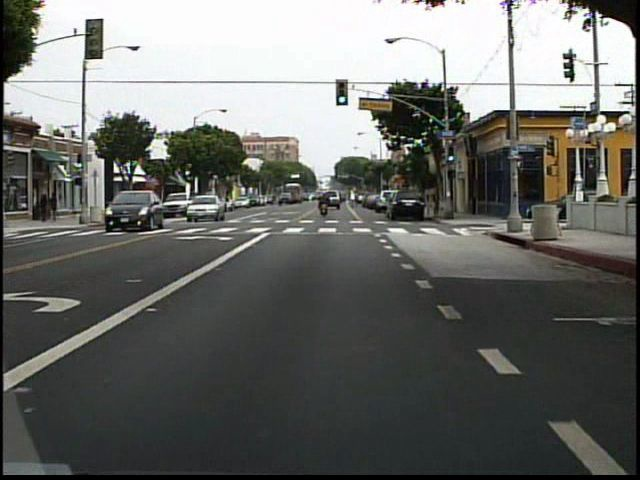person: (51, 190, 63, 221), (40, 193, 52, 224), (318, 189, 330, 218)
